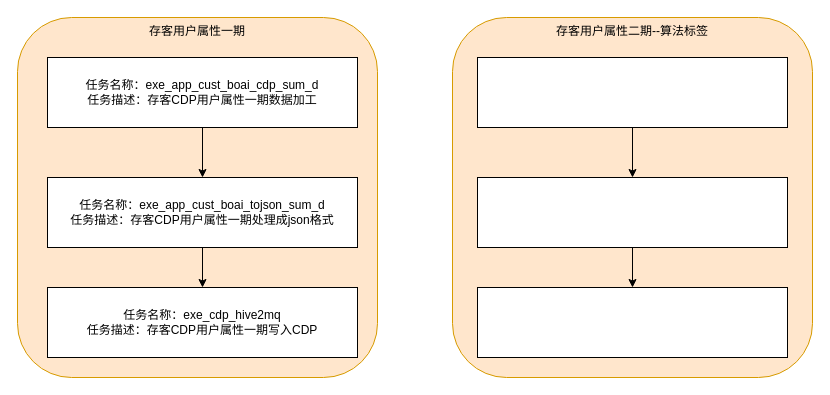
This 830x395 diagram has some shape labels left out. The shapes that lost their labels are listed below. From the top down, each one's centre as x and y in pixels, then its label:
point (632, 92): 任务名称：exe_app_cust_boai_cdp_algorithm_sum_d 任务描述：存客CDP用户属性二期算法标签加工
point (632, 212): 任务名称：exe_app_cust_boai_algorithm_tojson_sum_d 任务描述：存客CDP用户属性二期算法标签处理成json格式
point (632, 322): 任务名称：exe_cdp_algorithm_hive2mq 任务描述：存客CDP用户属性二期算法标签写入CDP
